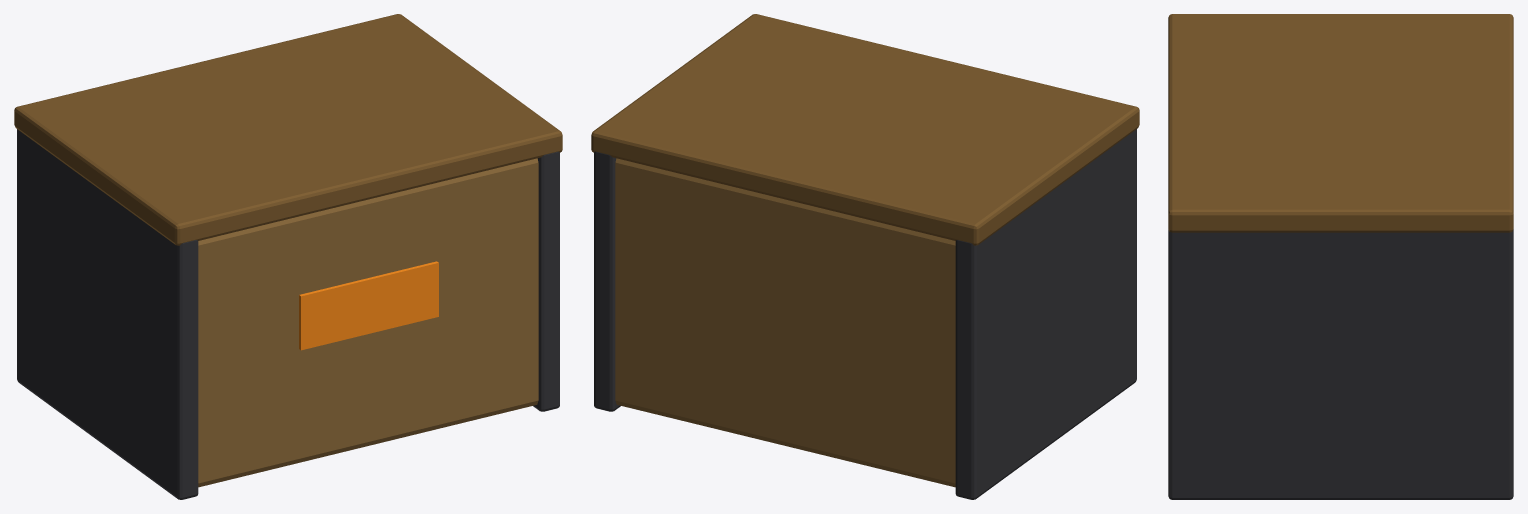
File: Crate.fbx
3 renders of one model, left to right at view 1: azimuth 30°, elevation 25°; view 2: azimuth 150°, elevation 25°; view 3: azimuth 270°, elevation 25°, orthographic. The views are drawn at different scales.
Parts seen in each view (by area): view 1: Part__WoodPlanks__8c6a3c, Part__WoodPlanks__7a5a30, Part__Metal__3a3a3e, Part__SmoothPlastic__ff8c1e; view 2: Part__WoodPlanks__8c6a3c, Part__WoodPlanks__7a5a30, Part__Metal__3a3a3e; view 3: Part__Metal__3a3a3e, Part__WoodPlanks__7a5a30.
Boxes of the visible parts, bbox=[...] form: Part__WoodPlanks__8c6a3c: bbox=[198, 158, 538, 487]; Part__WoodPlanks__7a5a30: bbox=[14, 14, 562, 245]; Part__Metal__3a3a3e: bbox=[17, 129, 559, 499]; Part__SmoothPlastic__ff8c1e: bbox=[299, 261, 438, 350]; Part__WoodPlanks__8c6a3c: bbox=[615, 158, 955, 487]; Part__WoodPlanks__7a5a30: bbox=[591, 14, 1139, 245]; Part__Metal__3a3a3e: bbox=[594, 129, 1136, 499]; Part__Metal__3a3a3e: bbox=[1168, 229, 1513, 499]; Part__WoodPlanks__7a5a30: bbox=[1168, 14, 1513, 232].
Size of the model in its own units: 2.25 by 1.54 by 1.65.
